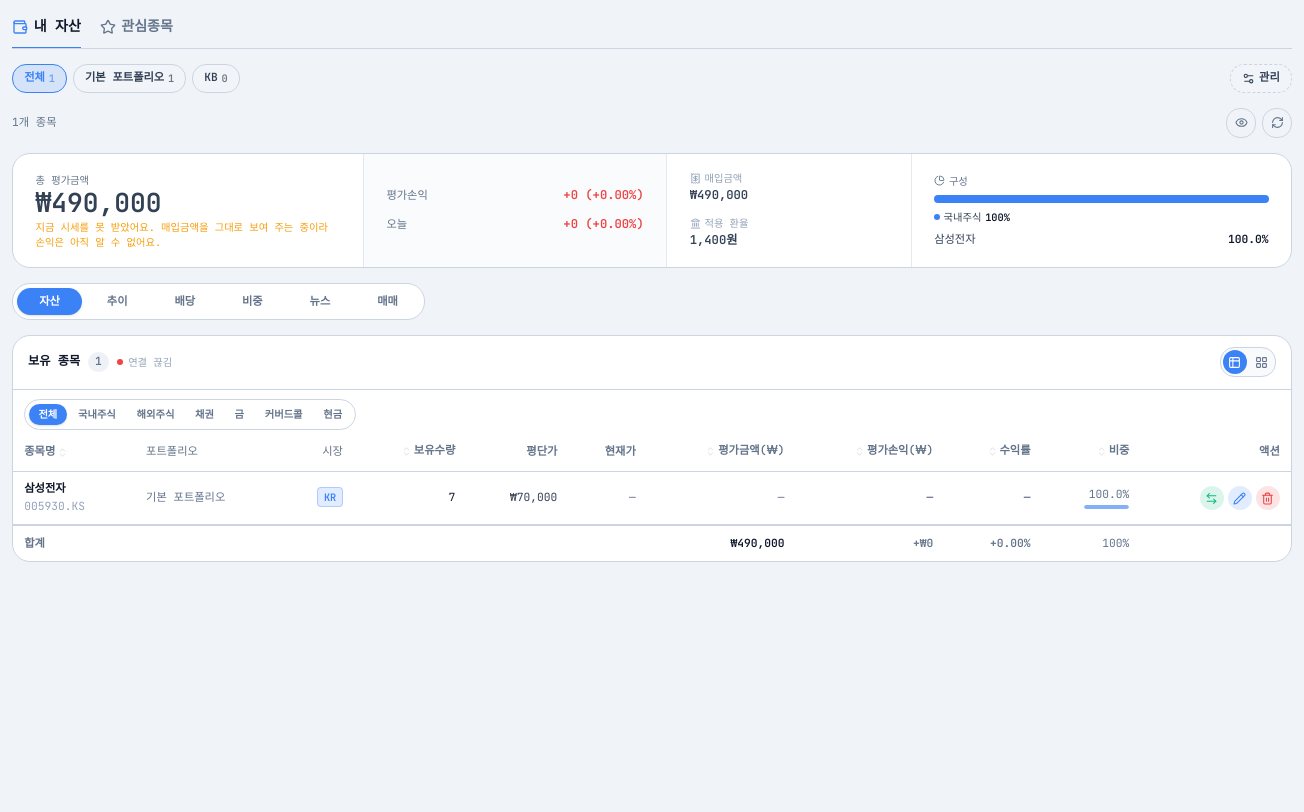
내 자산 — 자산 추가 버튼 노출 규칙 › 개별 포트폴리오를 고르면 자산 추가 버튼이 나타난다
What coordinates should you click on to do the following:
click the button "기본 포트폴리오 1"
I would click on:
 (130, 78)
Its box is [73,64,186,93].
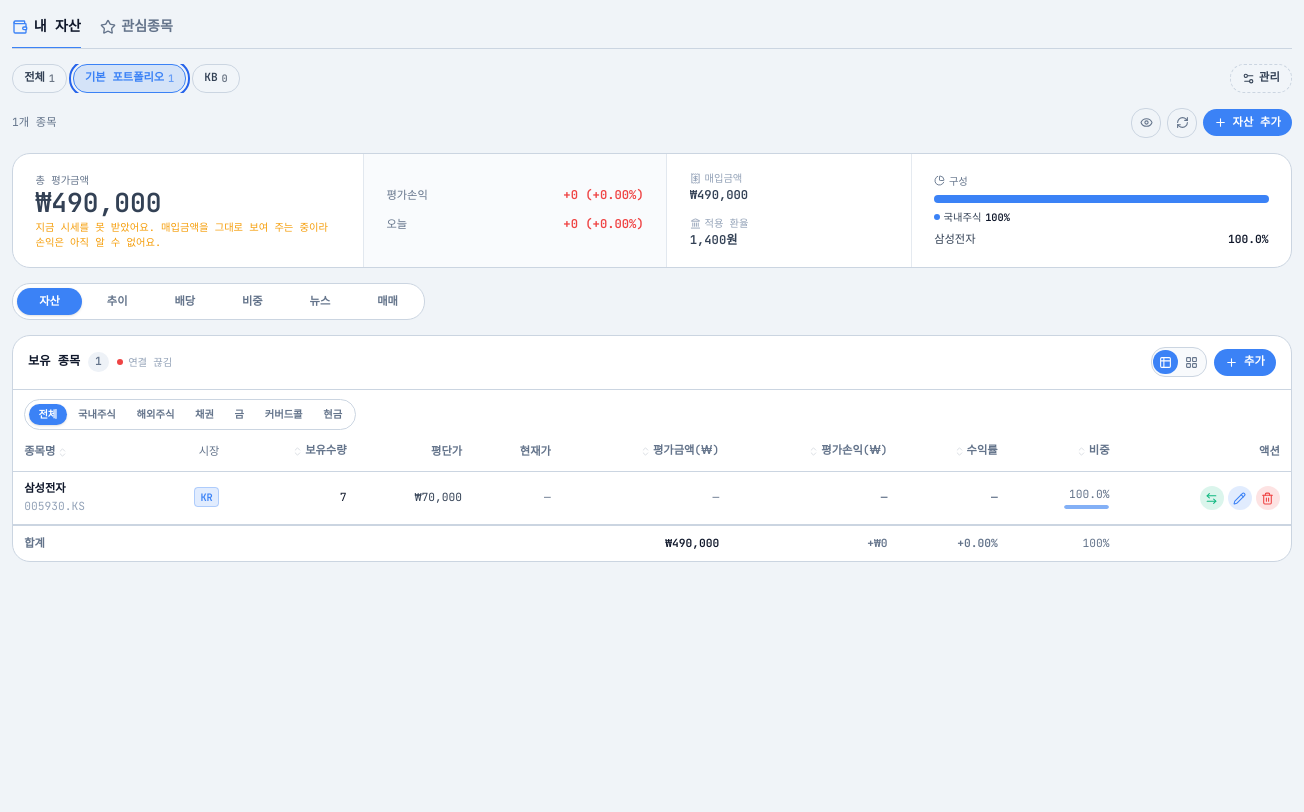
Expected: the button "자산 추가" is shown, [1203,109,1292,136]
